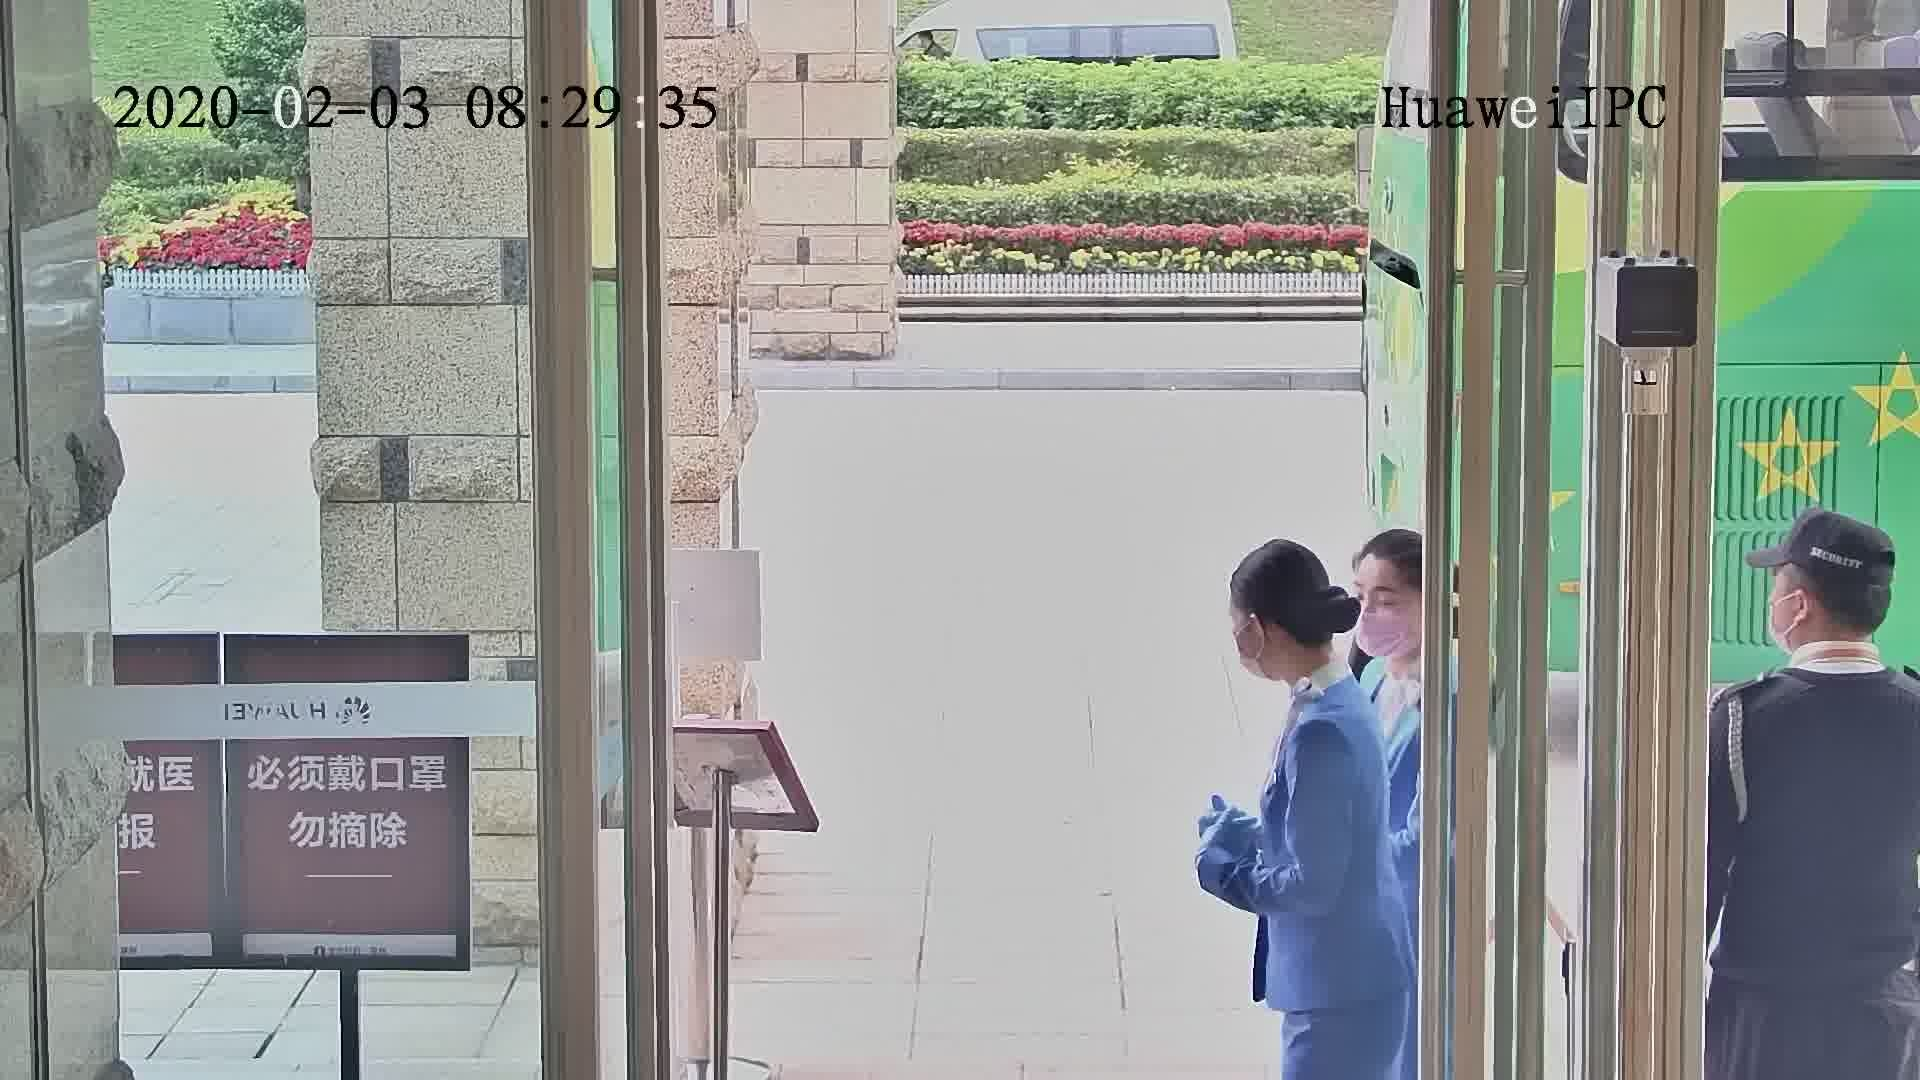face: (1349, 555, 1420, 664)
mask: (1354, 606, 1418, 655)
person: (1717, 508, 1920, 764), (1223, 541, 1387, 780), (1342, 529, 1446, 708)
